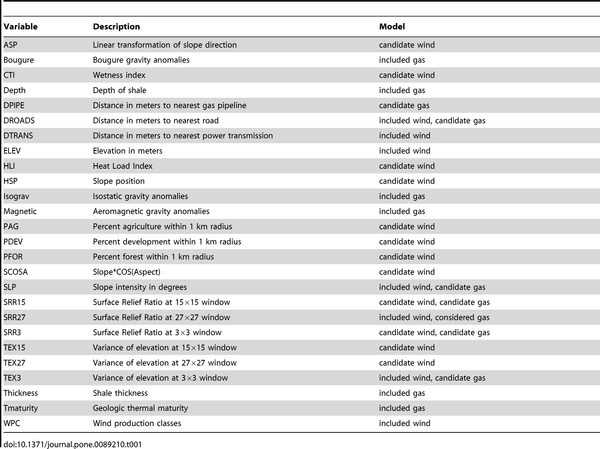fracking table: (1, 17, 600, 434)
